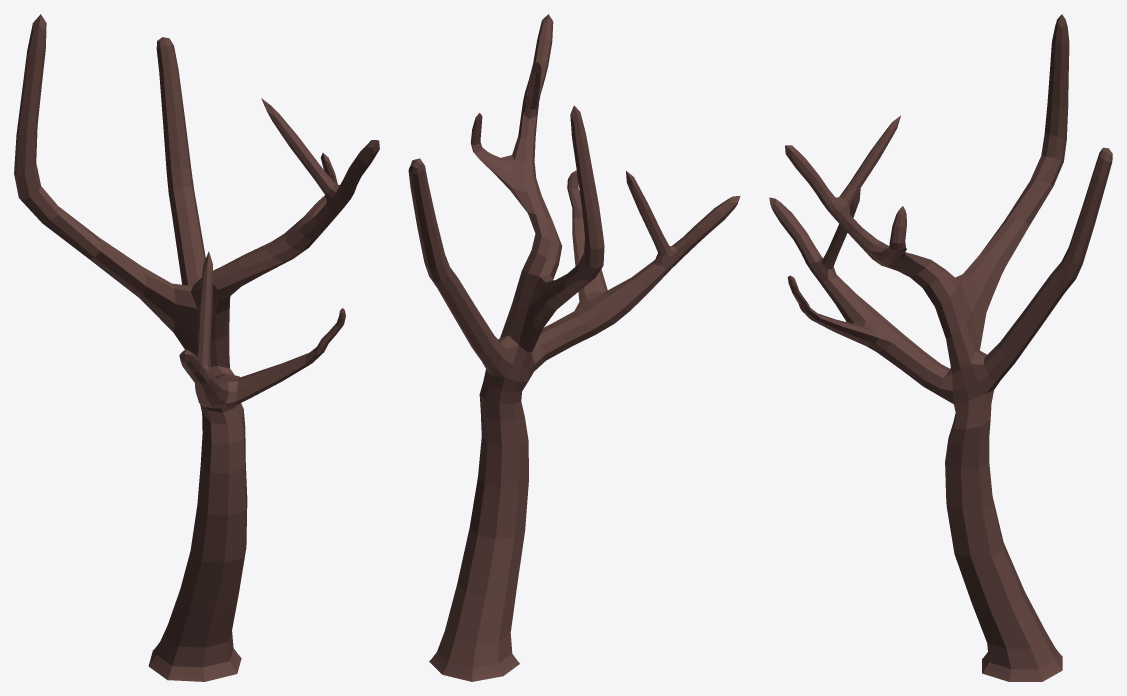
3 views of the same model, side by side, from view 1: azimuth 30°, elevation 25°; view 2: azimuth 150°, elevation 25°; view 3: azimuth 270°, elevation 25° (orthographic). The views are drawn at different scales.
Visible parts, largest first — view 1: CommonTree_Dead_5; view 2: CommonTree_Dead_5; view 3: CommonTree_Dead_5.
Part boxes in pixels (<box>): CommonTree_Dead_5: <box>14,14,379,681</box>; CommonTree_Dead_5: <box>408,14,740,681</box>; CommonTree_Dead_5: <box>769,14,1112,681</box>.
Size of the model in its own units: 0.8443 by 2.3 by 1.2.
